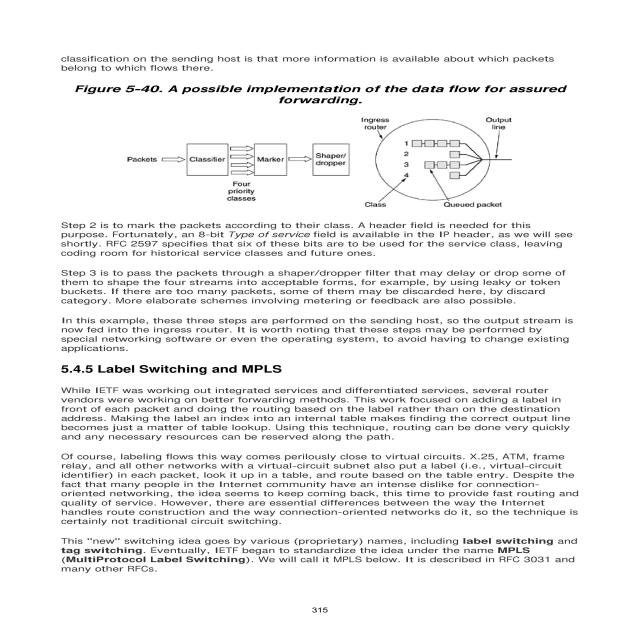diagram: (33, 70, 590, 218)
